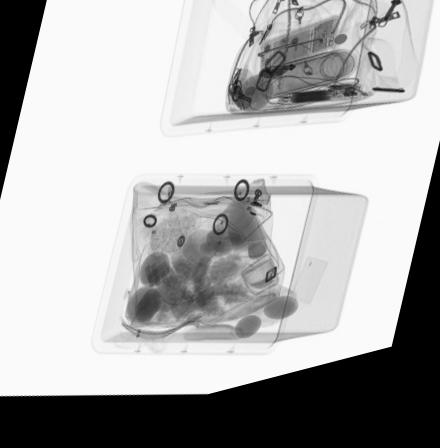Powerbank: (258, 31, 337, 88)
